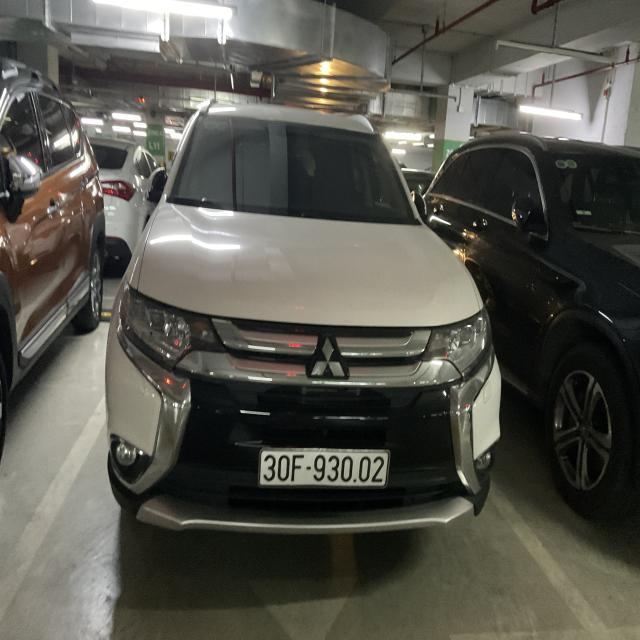license: (257, 447, 390, 489)
